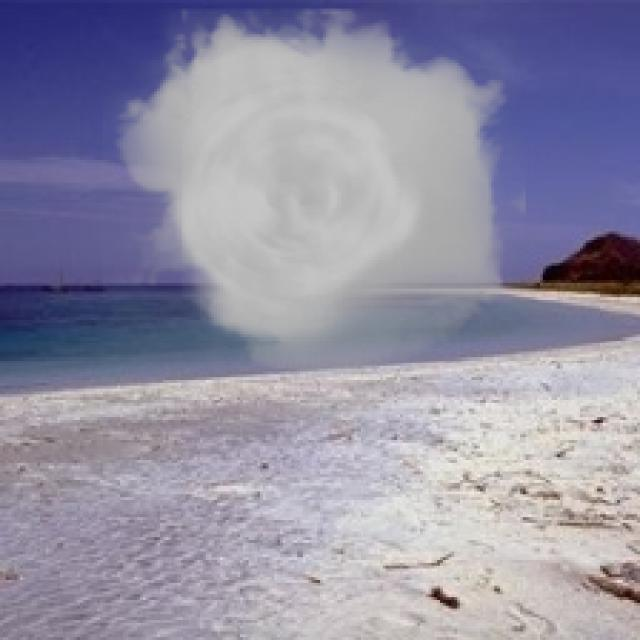Smoke: (103, 9, 526, 378)
